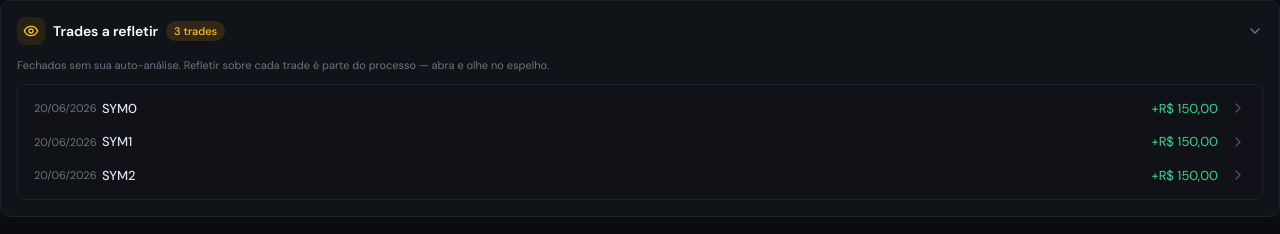
Scenario: <PendingReflections /> › clicar no header colapsa a lista expandida (poucos)
Expected: the text "SYM0" is shown, left=102, top=100, right=137, bottom=116
Click the heading "Trades a refletir": (106, 31) left=53, top=21, right=158, bottom=41
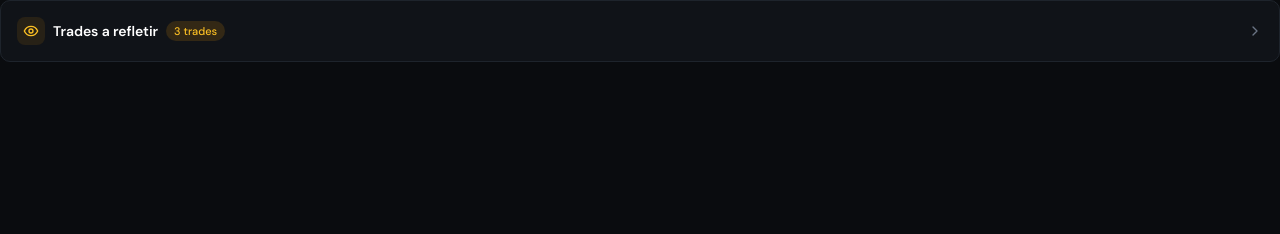
Expected: the button "SYM0" is gone
